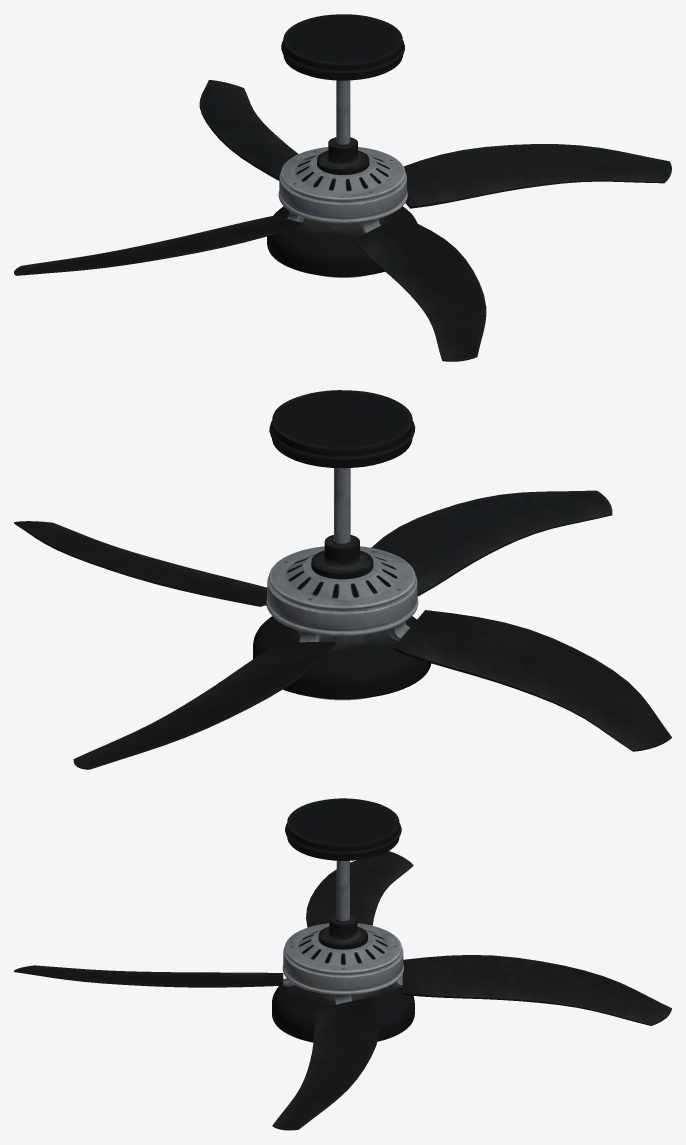
Rendered from ceiling_fan.glb.
3 views of the same model, one above another, from view 1: azimuth 30°, elevation 25°; view 2: azimuth 150°, elevation 25°; view 3: azimuth 270°, elevation 25° (orthographic). The views are drawn at different scales.
Visible parts, largest first — view 1: ceiling_fan_blades, ceiling_fan; view 2: ceiling_fan_blades, ceiling_fan; view 3: ceiling_fan_blades, ceiling_fan.
Boxes of the visible parts, x1=… form: ceiling_fan_blades: x1=14, y1=80, x2=671, y2=361; ceiling_fan: x1=267, y1=14, x2=417, y2=277; ceiling_fan_blades: x1=14, y1=490, x2=671, y2=769; ceiling_fan: x1=253, y1=390, x2=431, y2=700; ceiling_fan_blades: x1=14, y1=851, x2=671, y2=1130; ceiling_fan: x1=272, y1=798, x2=414, y2=1042.
Bounding box in the file's own units: 1.46 × 0.5163 × 1.46.
1 material, 1 textured.
